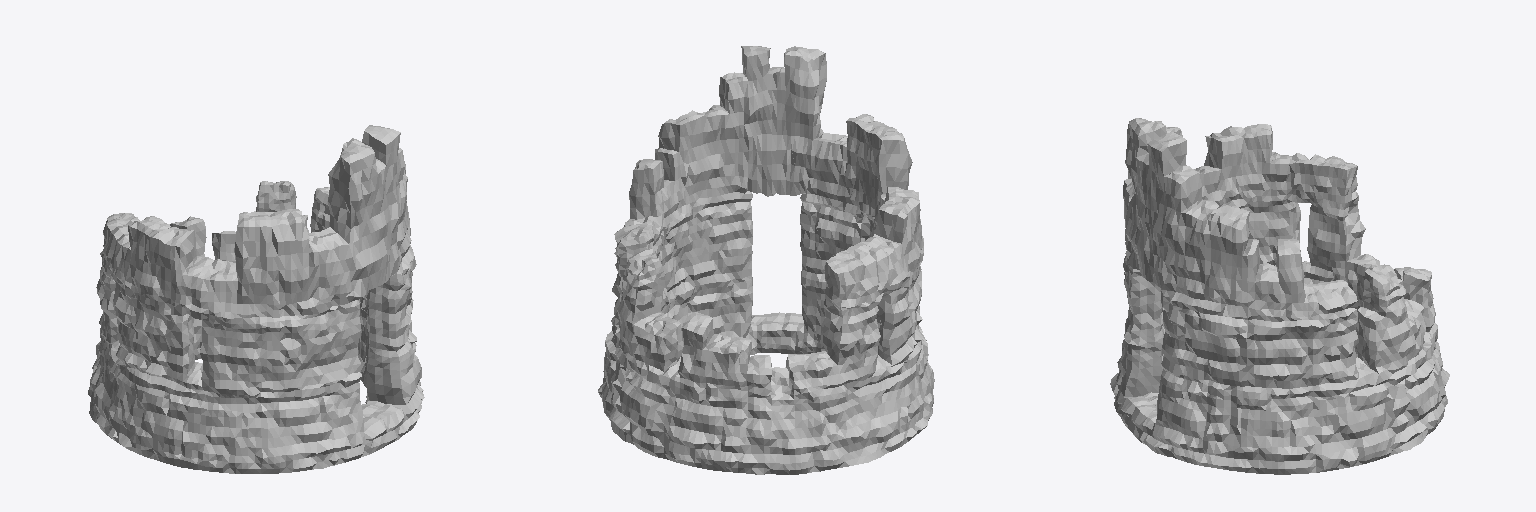
The model's file is small_tower.obj.
3 renders of one model, left to right at view 1: azimuth 30°, elevation 25°; view 2: azimuth 150°, elevation 25°; view 3: azimuth 270°, elevation 25°, orthographic.
Visible parts, largest first — view 1: pack_oldtowers.002; view 2: pack_oldtowers.002; view 3: pack_oldtowers.002.
Part boxes in pixels (left/top/right/bottom): pack_oldtowers.002: left=88, top=125, right=424, bottom=473; pack_oldtowers.002: left=598, top=46, right=934, bottom=474; pack_oldtowers.002: left=1110, top=118, right=1449, bottom=474.
Size of the model in its own units: 45.82 by 45.35 by 46.05.